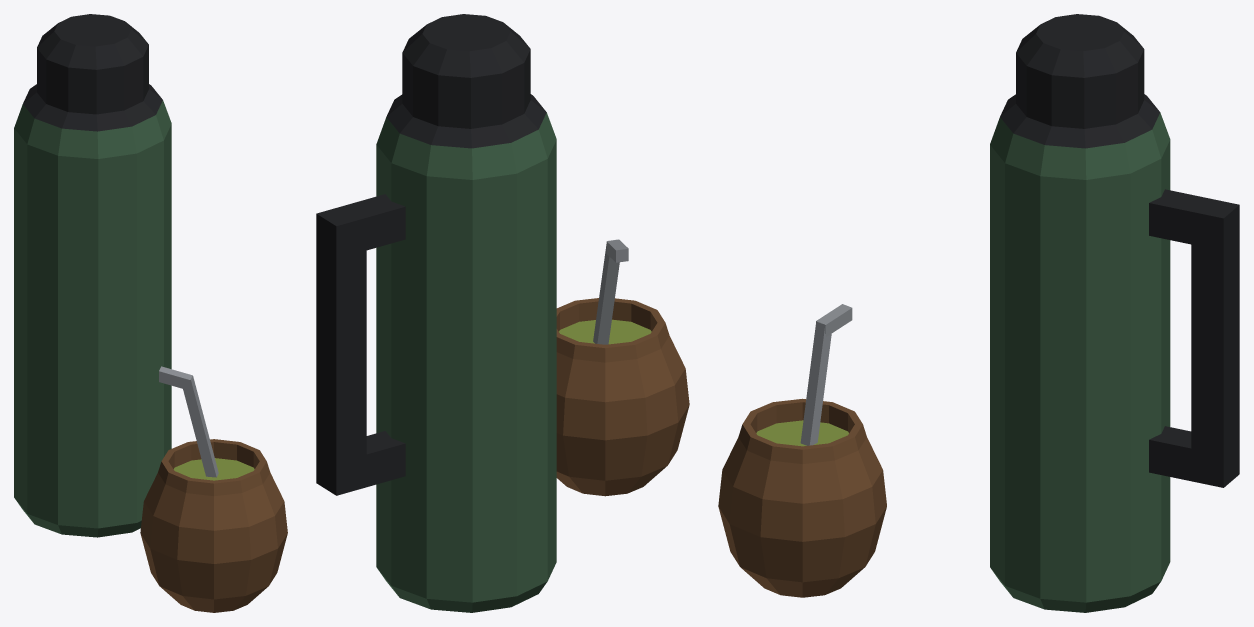
The model's file is MateYTermo.fbx.
3 views of the same model, side by side, from view 1: azimuth 30°, elevation 25°; view 2: azimuth 150°, elevation 25°; view 3: azimuth 270°, elevation 25° (orthographic). The views are drawn at different scales.
Parts seen in each view (by area): view 1: Deco_Termo; view 2: Deco_Termo; view 3: Deco_Termo.
Part boxes in pixels (box(x1,y1,x2,y2)): Deco_Termo: box(14, 14, 287, 612); Deco_Termo: box(316, 14, 689, 612); Deco_Termo: box(718, 14, 1239, 612).
Bounding box in the file's own units: 0.09 × 0.3 × 0.2594.
